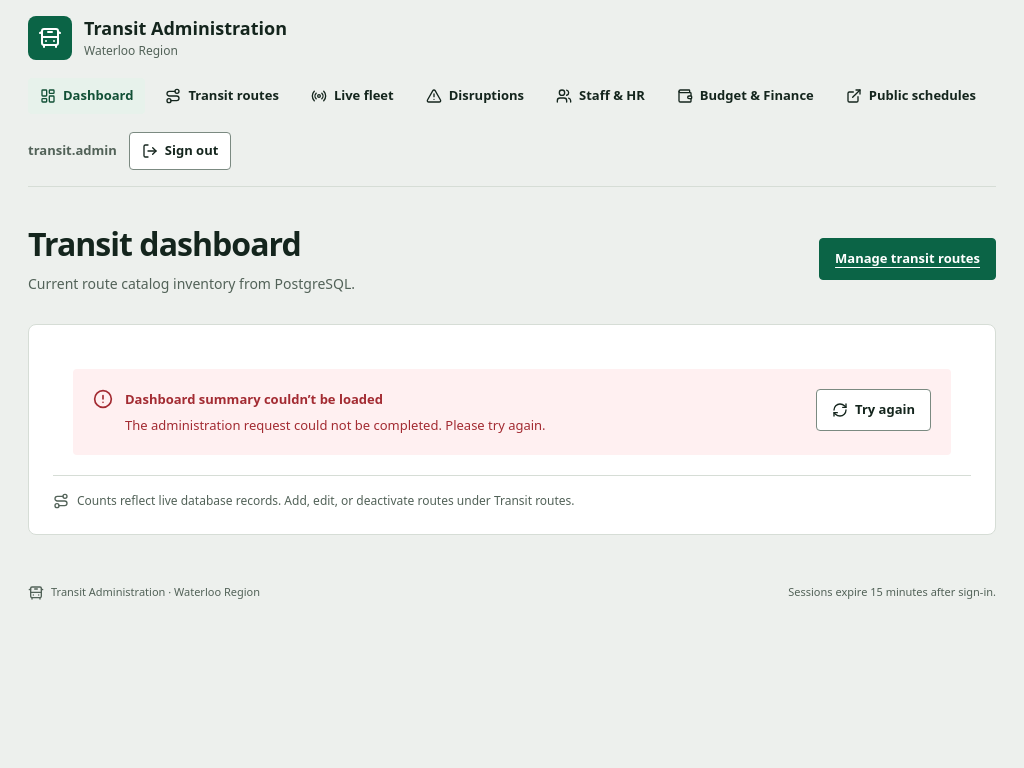
Scenario: shows dashboard error state and retries cleanly
Expected: the message is shown, left=73, top=369, right=951, bottom=456
Click the button "Try again" at [874, 410], box left=816, top=389, right=931, bottom=431
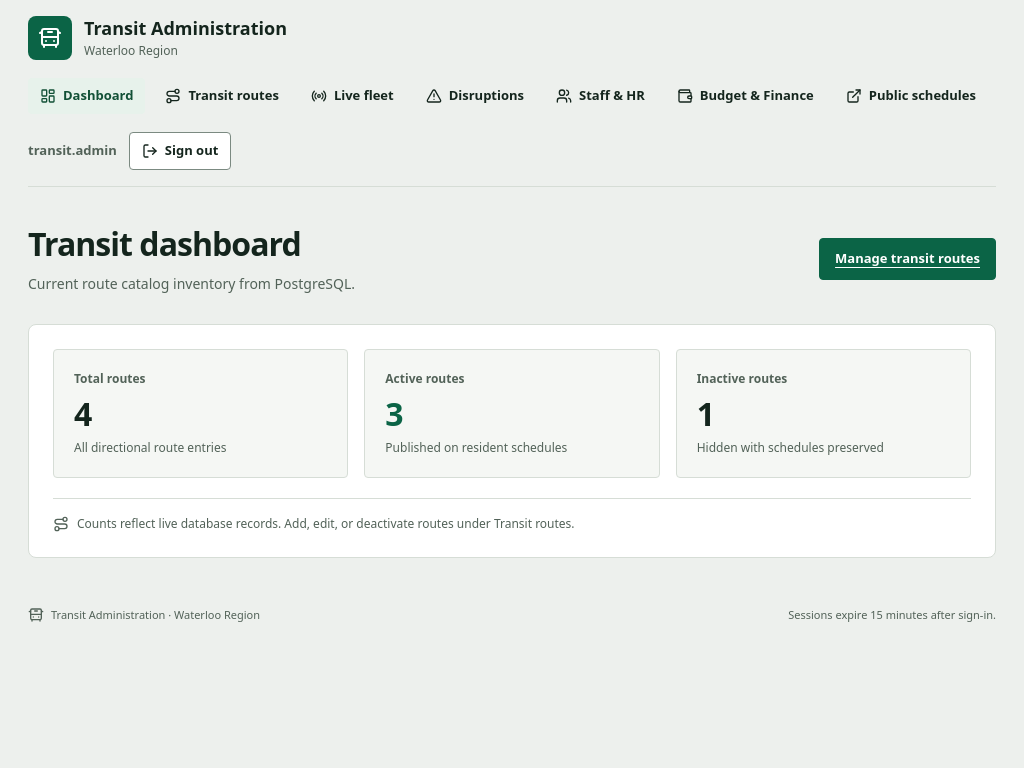
Expected: the text "4" is shown, left=74, top=392, right=92, bottom=435
